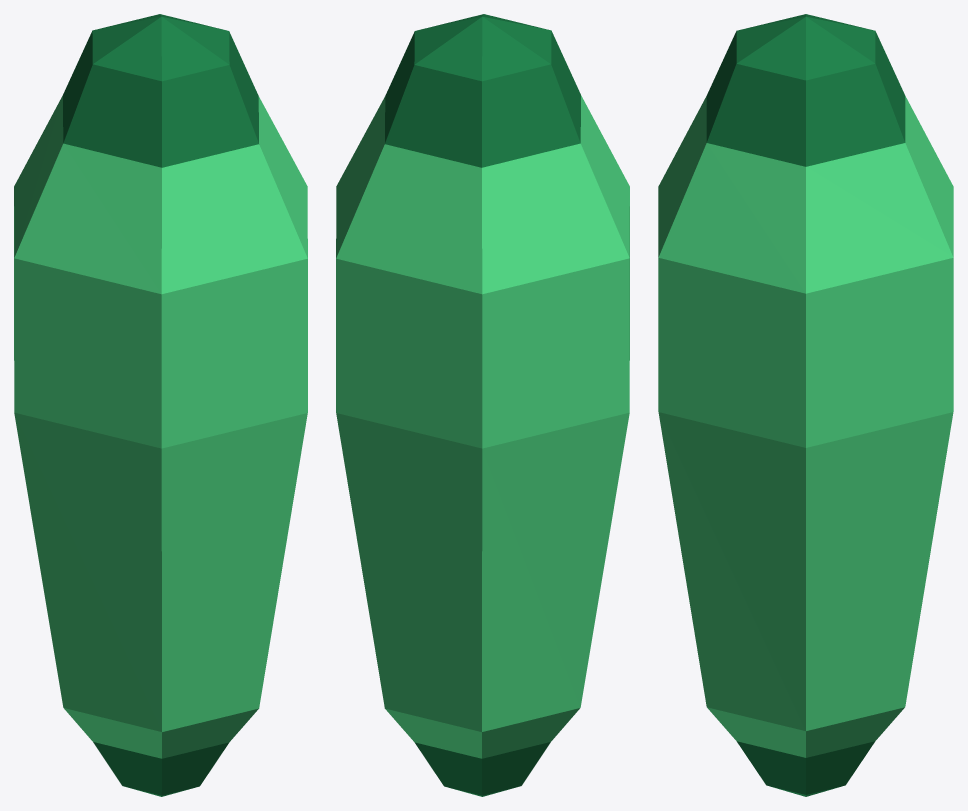
The model's file is arm.FBX.
3 views of the same model, side by side, from view 1: azimuth 30°, elevation 25°; view 2: azimuth 150°, elevation 25°; view 3: azimuth 270°, elevation 25° (orthographic).
Visible parts, largest first — view 1: VIFS003, VIFS004, VIFS001, VIFS002; view 2: VIFS001, VIFS002, VIFS003, VIFS004; view 3: VIFS001, VIFS003, VIFS002, VIFS004.
Part boxes in pixels (x1=…): VIFS003: x1=14, y1=96, x2=307, y2=758; VIFS004: x1=63, y1=16, x2=258, y2=796; VIFS001: x1=14, y1=95, x2=63, y2=360; VIFS002: x1=63, y1=14, x2=225, y2=142; VIFS001: x1=336, y1=96, x2=629, y2=758; VIFS002: x1=385, y1=16, x2=580, y2=796; VIFS003: x1=580, y1=95, x2=629, y2=360; VIFS004: x1=418, y1=14, x2=580, y2=142; VIFS001: x1=806, y1=96, x2=953, y2=757; VIFS003: x1=658, y1=96, x2=805, y2=757; VIFS002: x1=806, y1=14, x2=905, y2=796; VIFS004: x1=706, y1=14, x2=805, y2=796.
Bounding box in the file's own units: 0.239 × 0.607 × 0.208.
